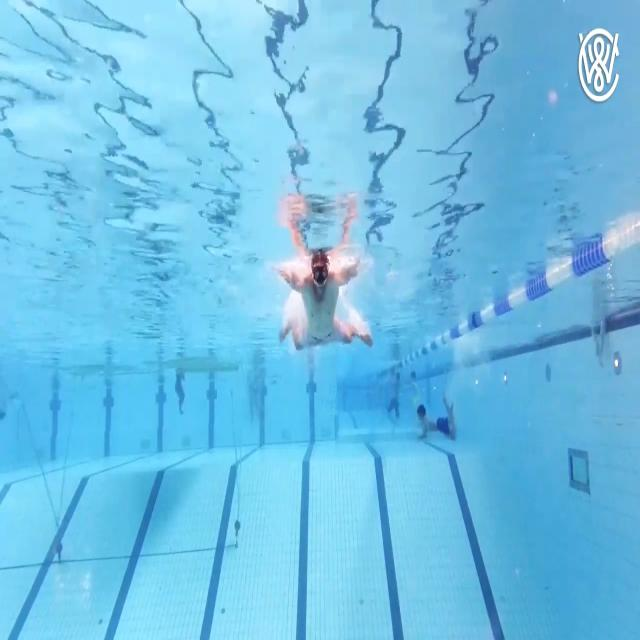Swimming: (272, 261, 374, 351), (412, 402, 458, 442)
